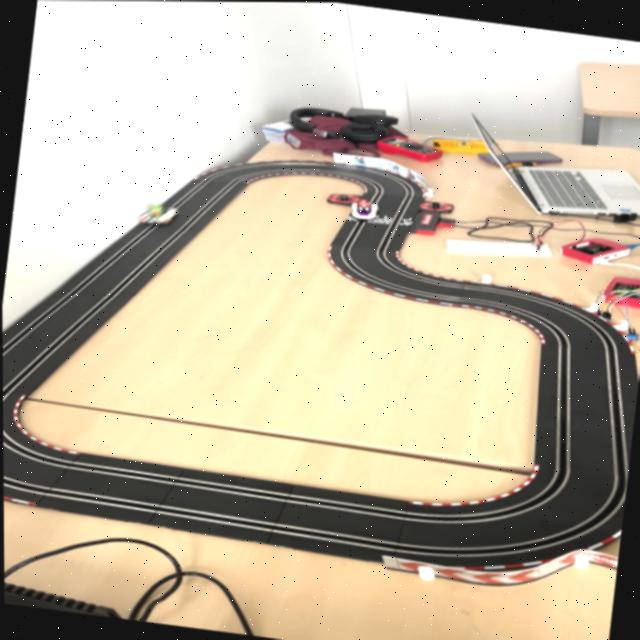mario: (347, 196, 381, 224)
yoshi: (136, 199, 183, 229)
